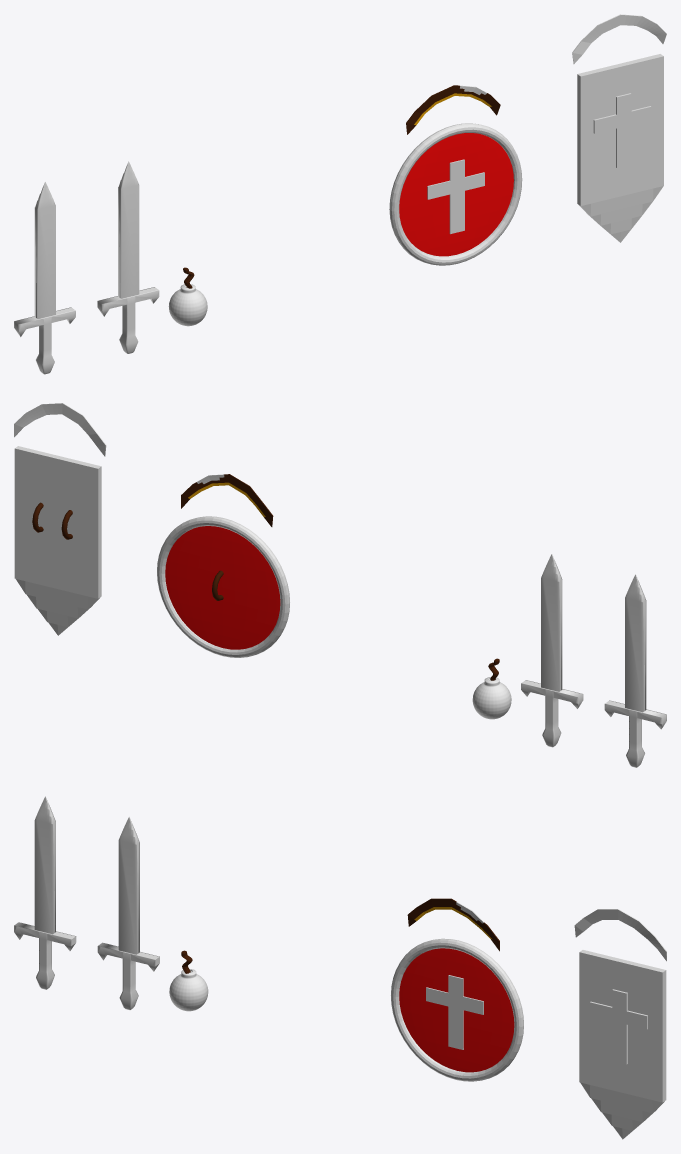
File: Weapons.fbx
3 renders of one model, top to bottom at view 1: azimuth 30°, elevation 25°; view 2: azimuth 150°, elevation 25°; view 3: azimuth 330°, elevation 25°, orthographic.
Visible parts, largest first — view 1: Cube.005, Sphere, Torus, Cube.002, Cube.001, Cube.006, Cube.004, Cube.003, Cube, Sphere.001, Cube.007, Cube.008; view 2: Cube.005, Sphere, Torus, Cube.001, Cube.002, Cube.003, Cube, Sphere.001, Cube.008, Cube.007; view 3: Cube.005, Sphere, Torus, Cube.001, Cube.002, Cube.006, Cube.004, Cube.003, Cube, Sphere.001, Cube.007, Cube.008.
Boxes of the visible parts, <box> form: Cube.005: <box>577,54,663,242</box>; Sphere: <box>399,133,513,256</box>; Torus: <box>389,123,522,265</box>; Cube.002: <box>118,161,139,298</box>; Cube.001: <box>34,182,55,318</box>; Cube.006: <box>593,93,651,167</box>; Cube.004: <box>427,159,484,234</box>; Cube.003: <box>97,287,159,353</box>; Cube: <box>14,307,75,374</box>; Sphere.001: <box>168,284,207,326</box>; Cube.007: <box>406,85,500,134</box>; Cube.008: <box>572,14,666,64</box>; Cube.005: <box>14,446,101,635</box>; Sphere: <box>165,526,280,649</box>; Torus: <box>157,516,289,657</box>; Cube.001: <box>625,574,646,712</box>; Cube.002: <box>541,554,562,691</box>; Cube.003: <box>521,680,583,747</box>; Cube: <box>604,700,666,767</box>; Sphere.001: <box>472,677,511,719</box>; Cube.008: <box>14,403,106,456</box>; Cube.007: <box>181,474,273,526</box>; Cube.005: <box>579,950,666,1139</box>; Sphere: <box>399,948,514,1072</box>; Torus: <box>391,938,523,1081</box>; Cube.001: <box>34,796,55,934</box>; Cube.002: <box>118,817,139,954</box>; Cube.006: <box>589,989,647,1064</box>; Cube.004: <box>426,975,483,1049</box>; Cube.003: <box>97,942,159,1009</box>; Cube: <box>14,922,76,989</box>; Sphere.001: <box>169,969,208,1011</box>; Cube.007: <box>407,898,499,951</box>; Cube.008: <box>574,909,666,961</box>.
Bounding box in the file's own units: 3851 × 1308 × 200.
